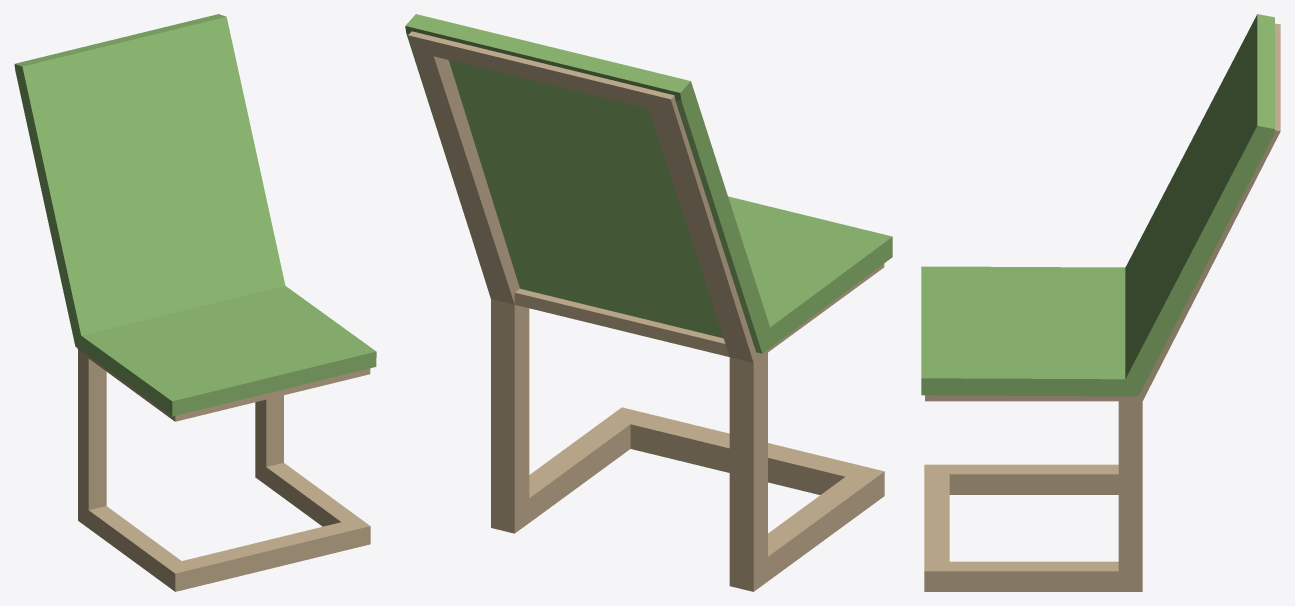
File: Сhair.fbx
3 views of the same model, side by side, from view 1: azimuth 30°, elevation 25°; view 2: azimuth 150°, elevation 25°; view 3: azimuth 270°, elevation 25° (orthographic). The views are drawn at different scales.
Visible parts, largest first — view 1: Cube.001, Cube; view 2: Cube.001, Cube; view 3: Cube.001, Cube.
Part boxes in pixels (x1,y1,x2,y2): Cube.001: (14,14,376,416); Cube: (77,348,370,591); Cube.001: (405,14,892,353); Cube: (408,31,884,591); Cube.001: (921,14,1274,396); Cube: (924,23,1280,591).
Bounding box in the file's own units: 128 × 250 × 173.
Materials: 1 (1 with a texture image).
